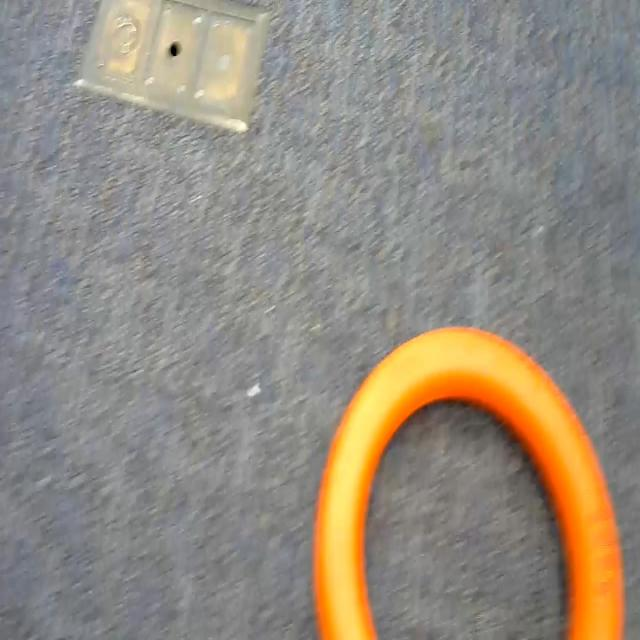note: (300, 321, 640, 640)
